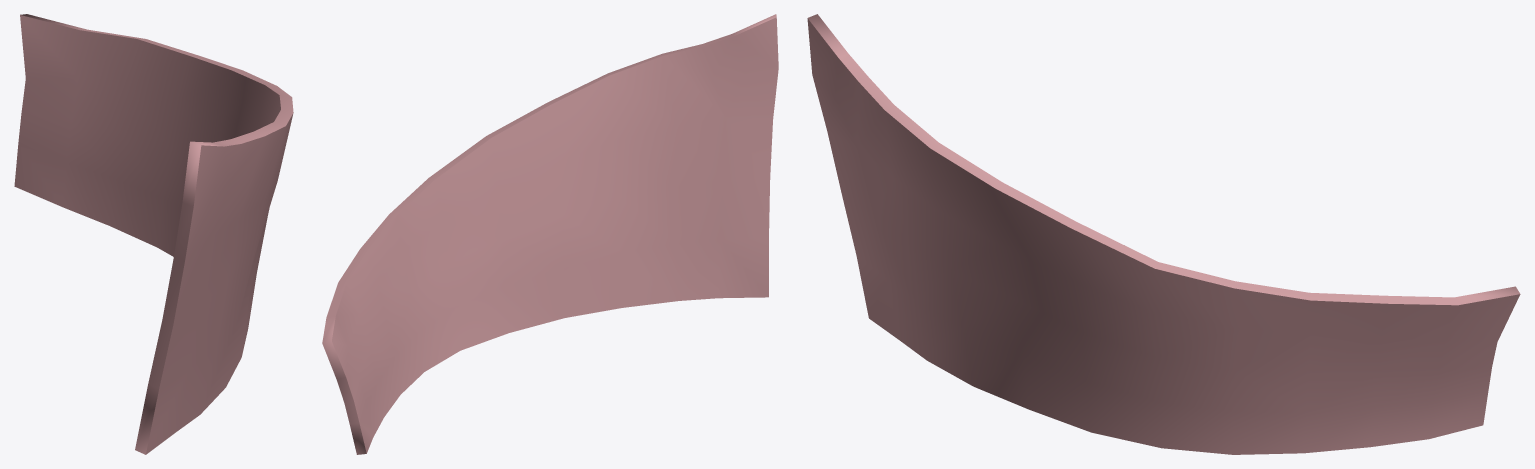
The picture shows the model from 3 angles, left to right: view 1: azimuth 30°, elevation 25°; view 2: azimuth 150°, elevation 25°; view 3: azimuth 270°, elevation 25°; orthographic projection. The views are drawn at different scales.
Visible parts, largest first — view 1: ZA_4ef194baf6d01718; view 2: ZA_4ef194baf6d01718; view 3: ZA_4ef194baf6d01718.
Part boxes in pixels (<box>): ZA_4ef194baf6d01718: <box>14,14,293,454</box>; ZA_4ef194baf6d01718: <box>322,14,778,454</box>; ZA_4ef194baf6d01718: <box>807,14,1520,454</box>.
Bounding box in the file's own units: 0.08 × 0.0903 × 0.1761.
